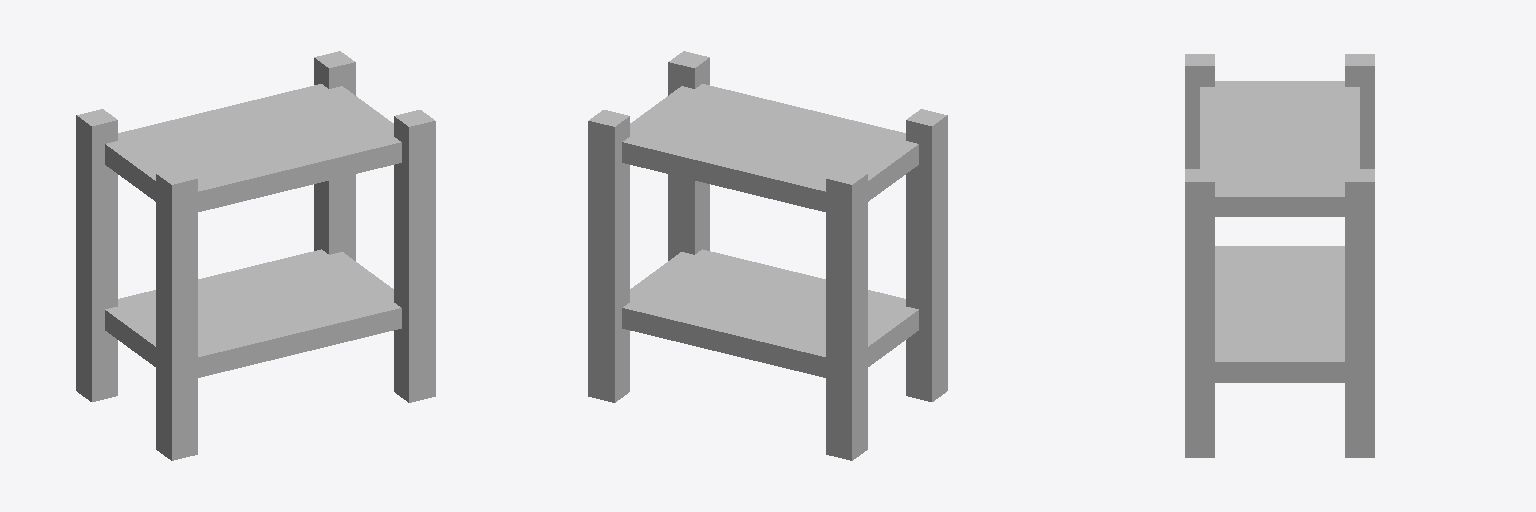
The model's file is bookcaseOpenLow.obj.
3 views of the same model, side by side, from view 1: azimuth 30°, elevation 25°; view 2: azimuth 150°, elevation 25°; view 3: azimuth 270°, elevation 25° (orthographic).
Parts seen in each view (by area): view 1: bookcaseOpenLow; view 2: bookcaseOpenLow; view 3: bookcaseOpenLow.
Part boxes in pixels (left/top/right/bottom): bookcaseOpenLow: left=76, top=51, right=435, bottom=460; bookcaseOpenLow: left=588, top=51, right=947, bottom=460; bookcaseOpenLow: left=1185, top=54, right=1374, bottom=457.
Size of the model in its own units: 0.4 by 0.4 by 0.25.